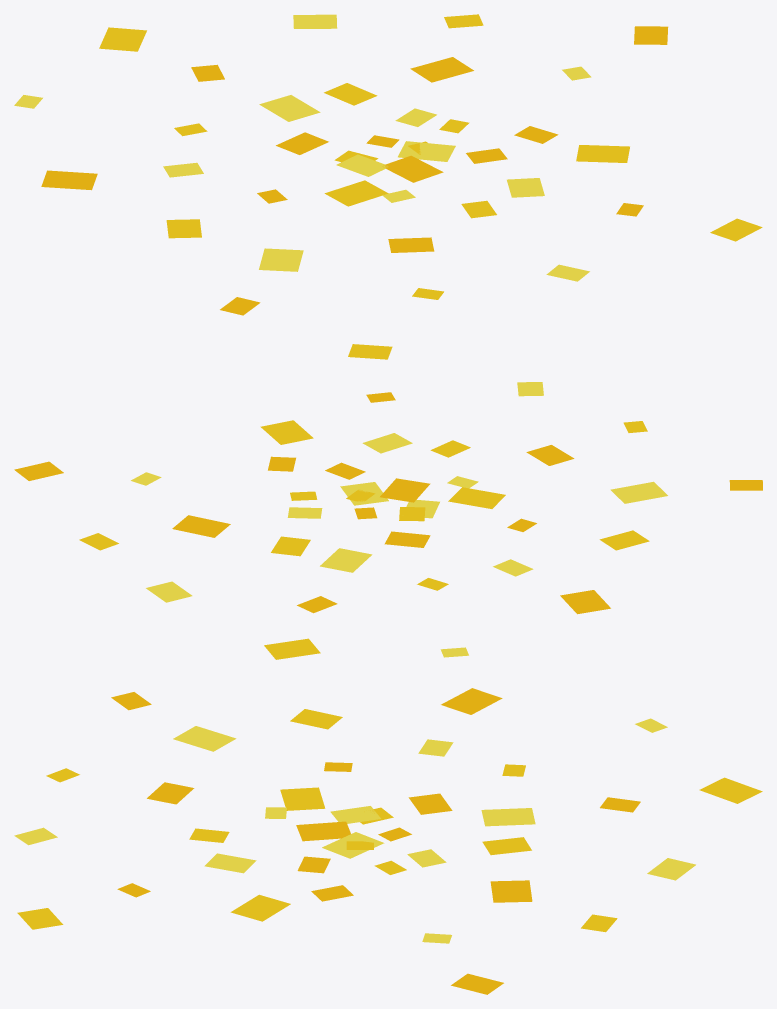
Rendered from mai_petal_patches.glb.
3 views of the same model, one above another, from view 1: azimuth 30°, elevation 25°; view 2: azimuth 150°, elevation 25°; view 3: azimuth 270°, elevation 25° (orthographic). The views are drawn at different scales.
Visible parts, largest first — view 1: MaiPetalCluster; view 2: MaiPetalCluster; view 3: MaiPetalCluster.
Boxes of the visible parts, box(x1,y1,x2,y2) form: MaiPetalCluster: box(14, 14, 762, 315); MaiPetalCluster: box(14, 344, 762, 659); MaiPetalCluster: box(14, 688, 762, 994).
Bounding box in the file's own units: 4.83 × 2.08e-17 × 4.98.
